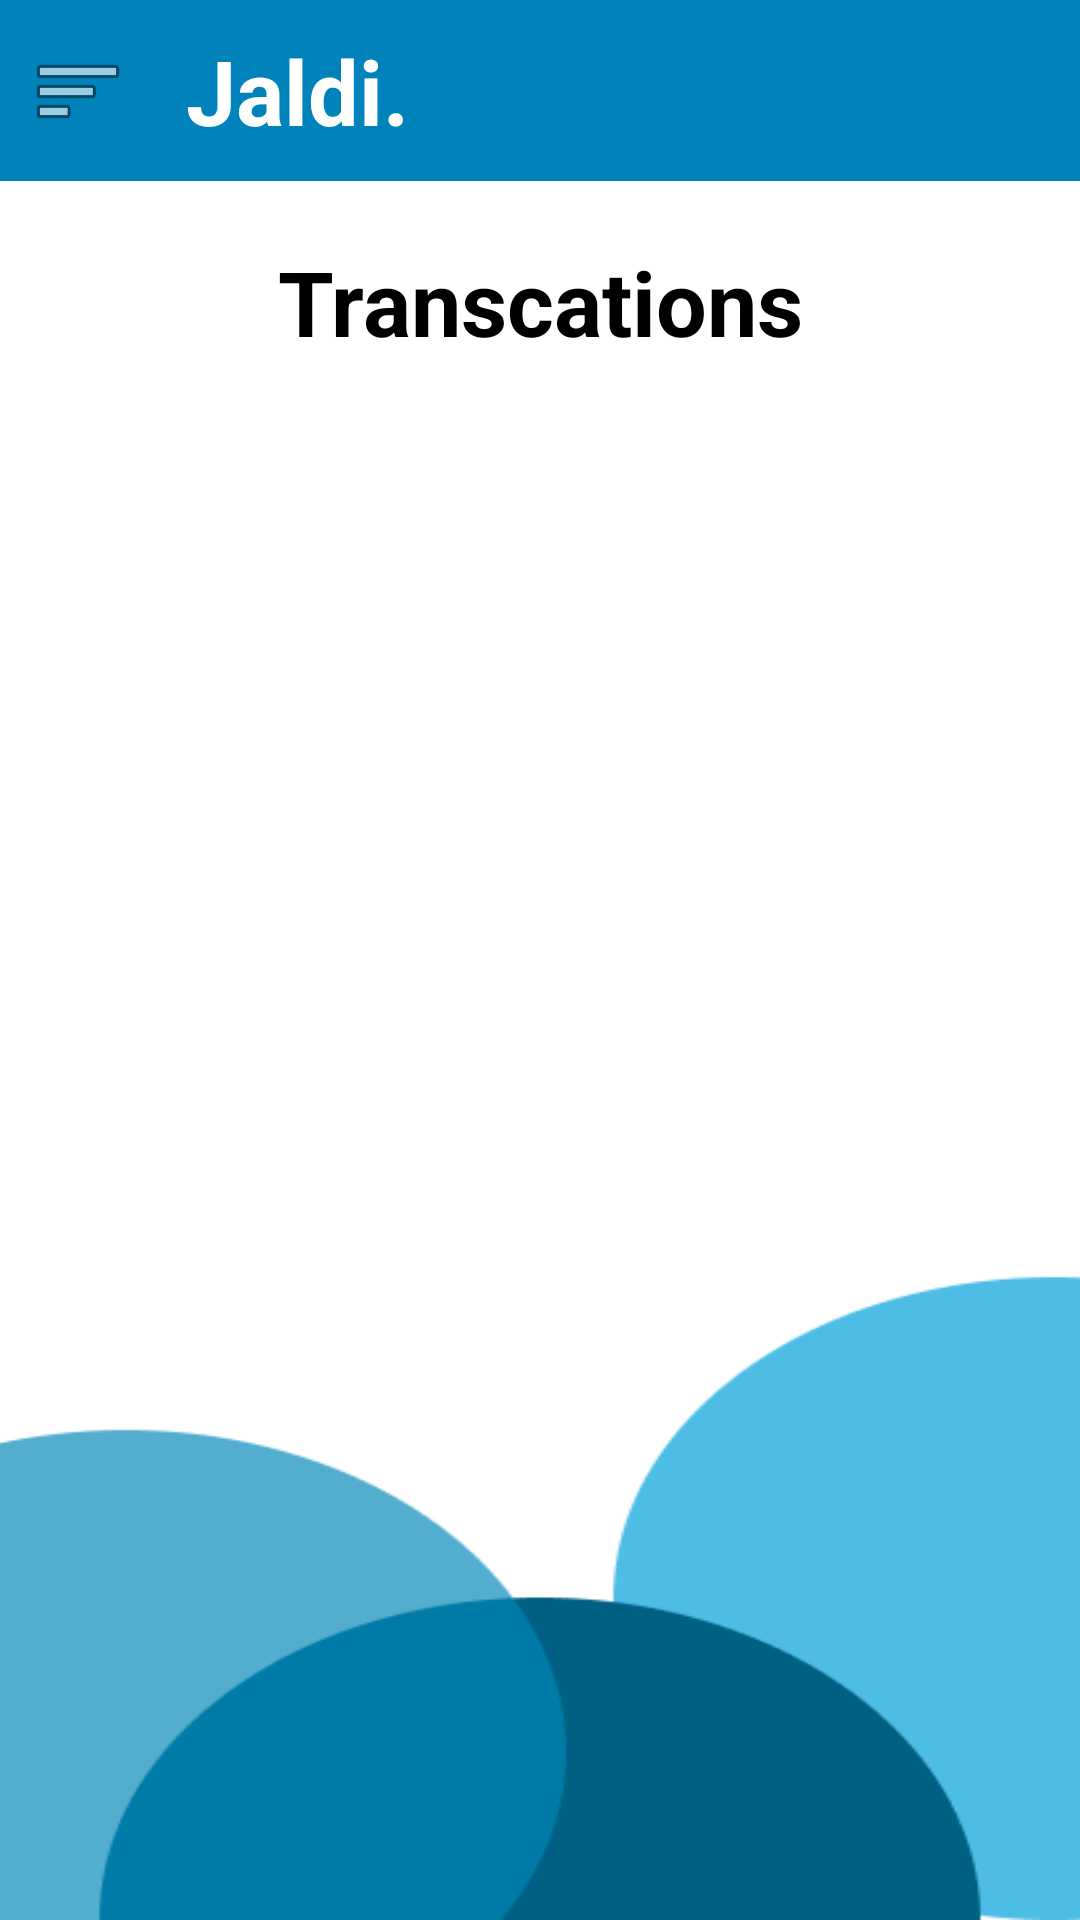

Icon bounding boxes for this 1080px x 1920px phone screenshot, format (x1, y1, x2, y2):
Menu: (37, 65, 119, 118)
